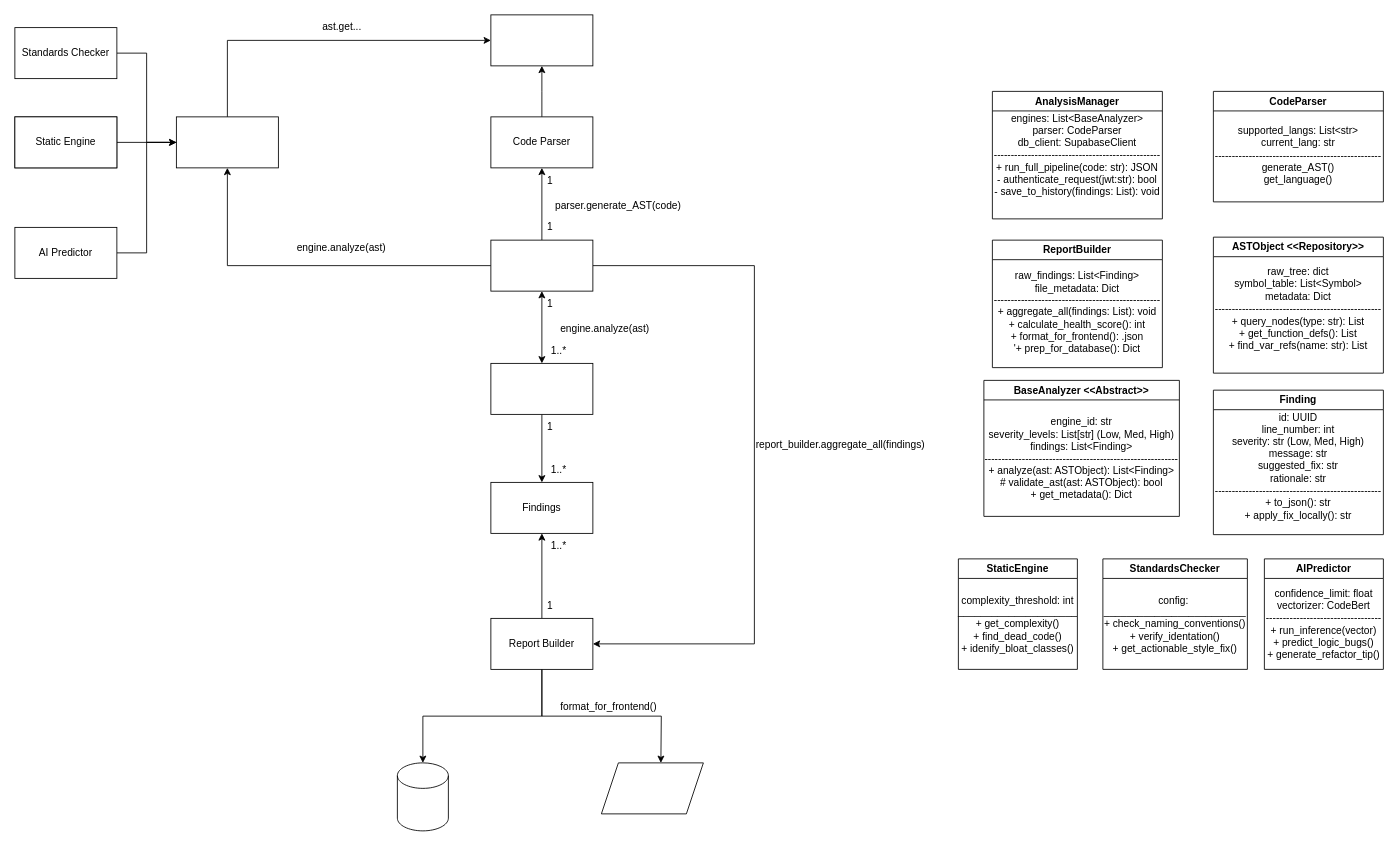
Some shapes in this 1398 by 846 pixel diagram are drawn without their labels. The shapes that lost their labels are listed below. From the top down, each one's centre as x and y in pixels, then its label:
At pixel 541 40: "AST Object".
At pixel 227 142: "Engine".
At pixel 541 265: "Analysis Manager".
At pixel 541 388: "Base Analyzer".
At pixel 422 796: "DB".
At pixel 652 788: "Frontend".
